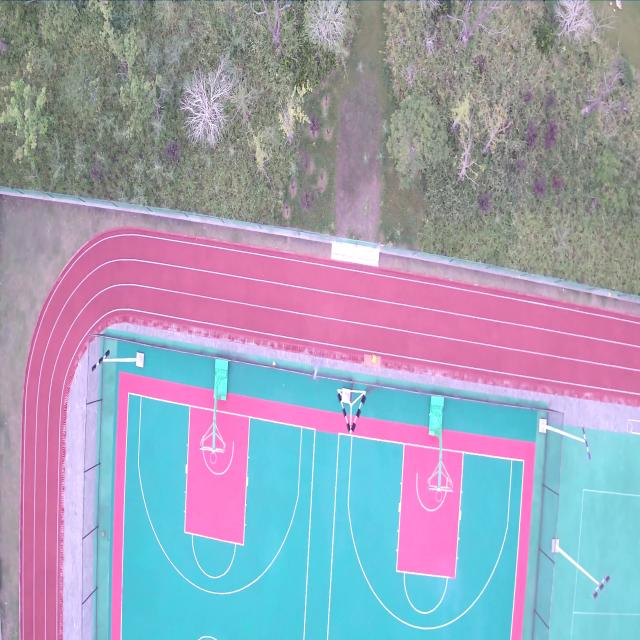UAV: (309, 356, 321, 379)
